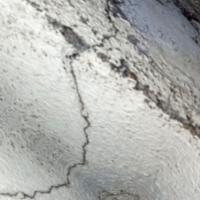crack: (0, 111, 124, 198)
